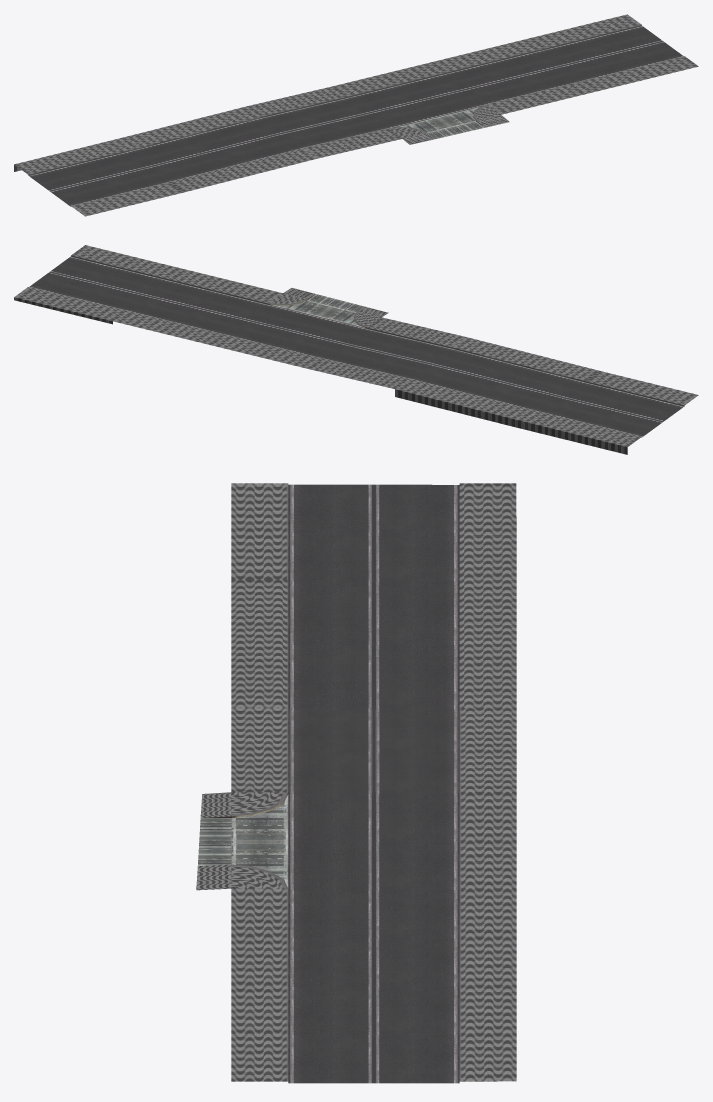
The model's file is road_sfw55.obj.
3 renders of one model, top to bottom at view 1: azimuth 30°, elevation 25°; view 2: azimuth 150°, elevation 25°; view 3: azimuth 270°, elevation 25°, orthographic. The views are drawn at different scales.
Parts seen in each view (by area): view 1: road_sfw55; view 2: road_sfw55; view 3: road_sfw55.
Part boxes in pixels (left/top/right/bottom): road_sfw55: left=14, top=14, right=698, bottom=216; road_sfw55: left=14, top=245, right=698, bottom=454; road_sfw55: left=196, top=483, right=516, bottom=1083.
Bounding box in the file's own units: 124 × 1.75 × 28.09.
Materials: 4 (4 with a texture image).
